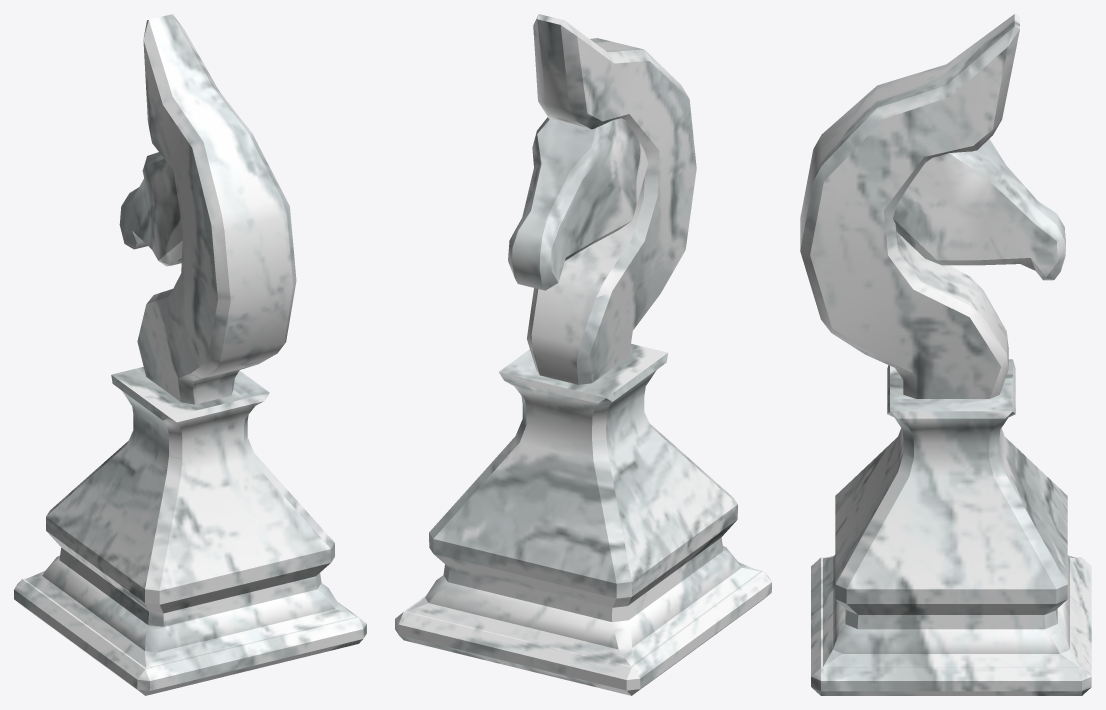
The model's file is chess_horse_01-white.glb.
The picture shows the model from 3 angles, left to right: view 1: azimuth 30°, elevation 25°; view 2: azimuth 150°, elevation 25°; view 3: azimuth 270°, elevation 25°; orthographic projection. The views are drawn at different scales.
Parts seen in each view (by area): view 1: horse_01; view 2: horse_01; view 3: horse_01.
Part boxes in pixels (x1,y1,x2,y2): horse_01: [14, 14, 366, 695]; horse_01: [395, 14, 771, 695]; horse_01: [800, 14, 1091, 695].
Bounding box in the file's own units: 0.5712 × 1.39 × 0.5935.
1 material, 1 textured.
